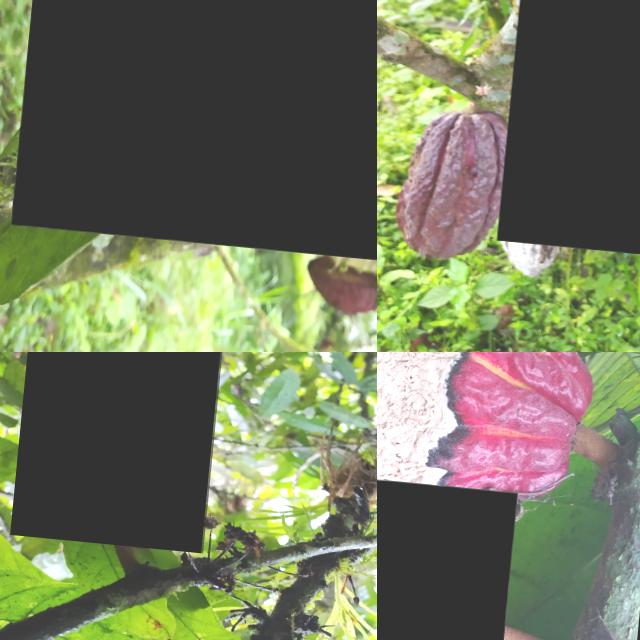Monilia: (19, 0, 377, 259), (19, 352, 236, 545), (377, 352, 607, 505), (504, 150, 580, 277)
Sana: (506, 0, 640, 253), (377, 445, 523, 640), (403, 105, 524, 260)
